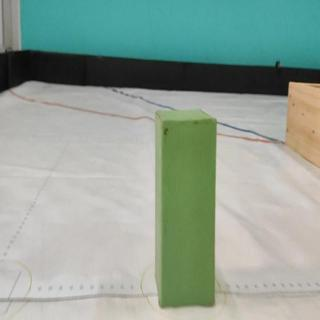greenbox: (153, 107, 220, 307)
